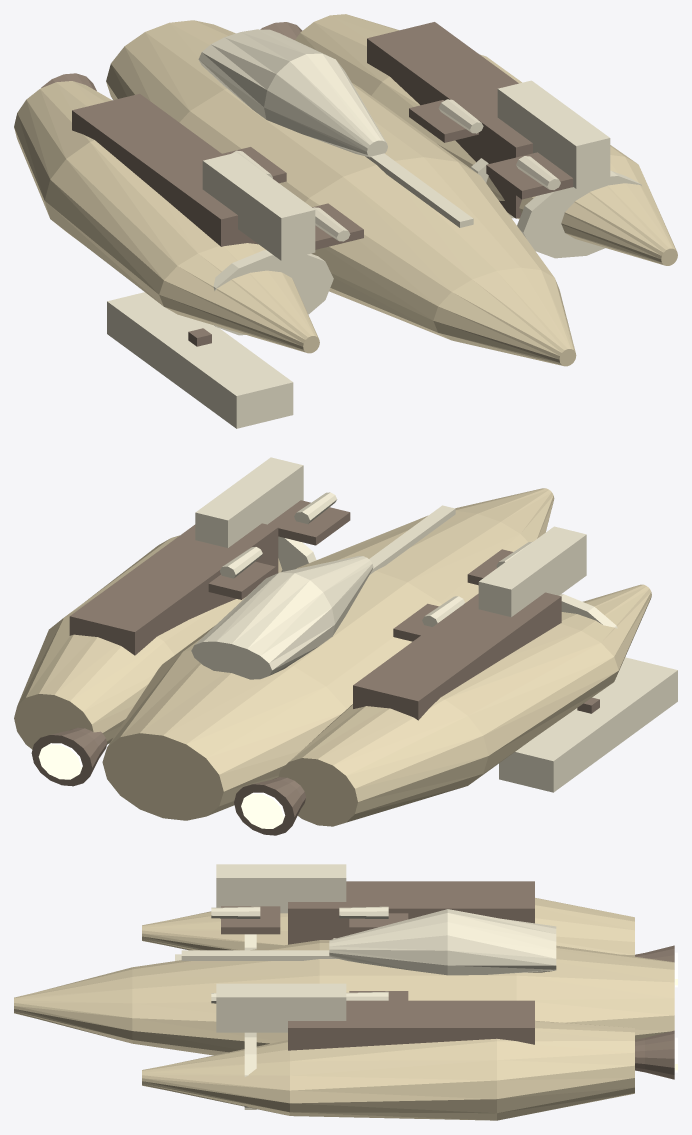
3 renders of one model, top to bottom at view 1: azimuth 30°, elevation 25°; view 2: azimuth 150°, elevation 25°; view 3: azimuth 270°, elevation 25°, orthographic. The views are drawn at different scales.
Size of the model in its own units: 14.25 by 5.54 by 20.42.
